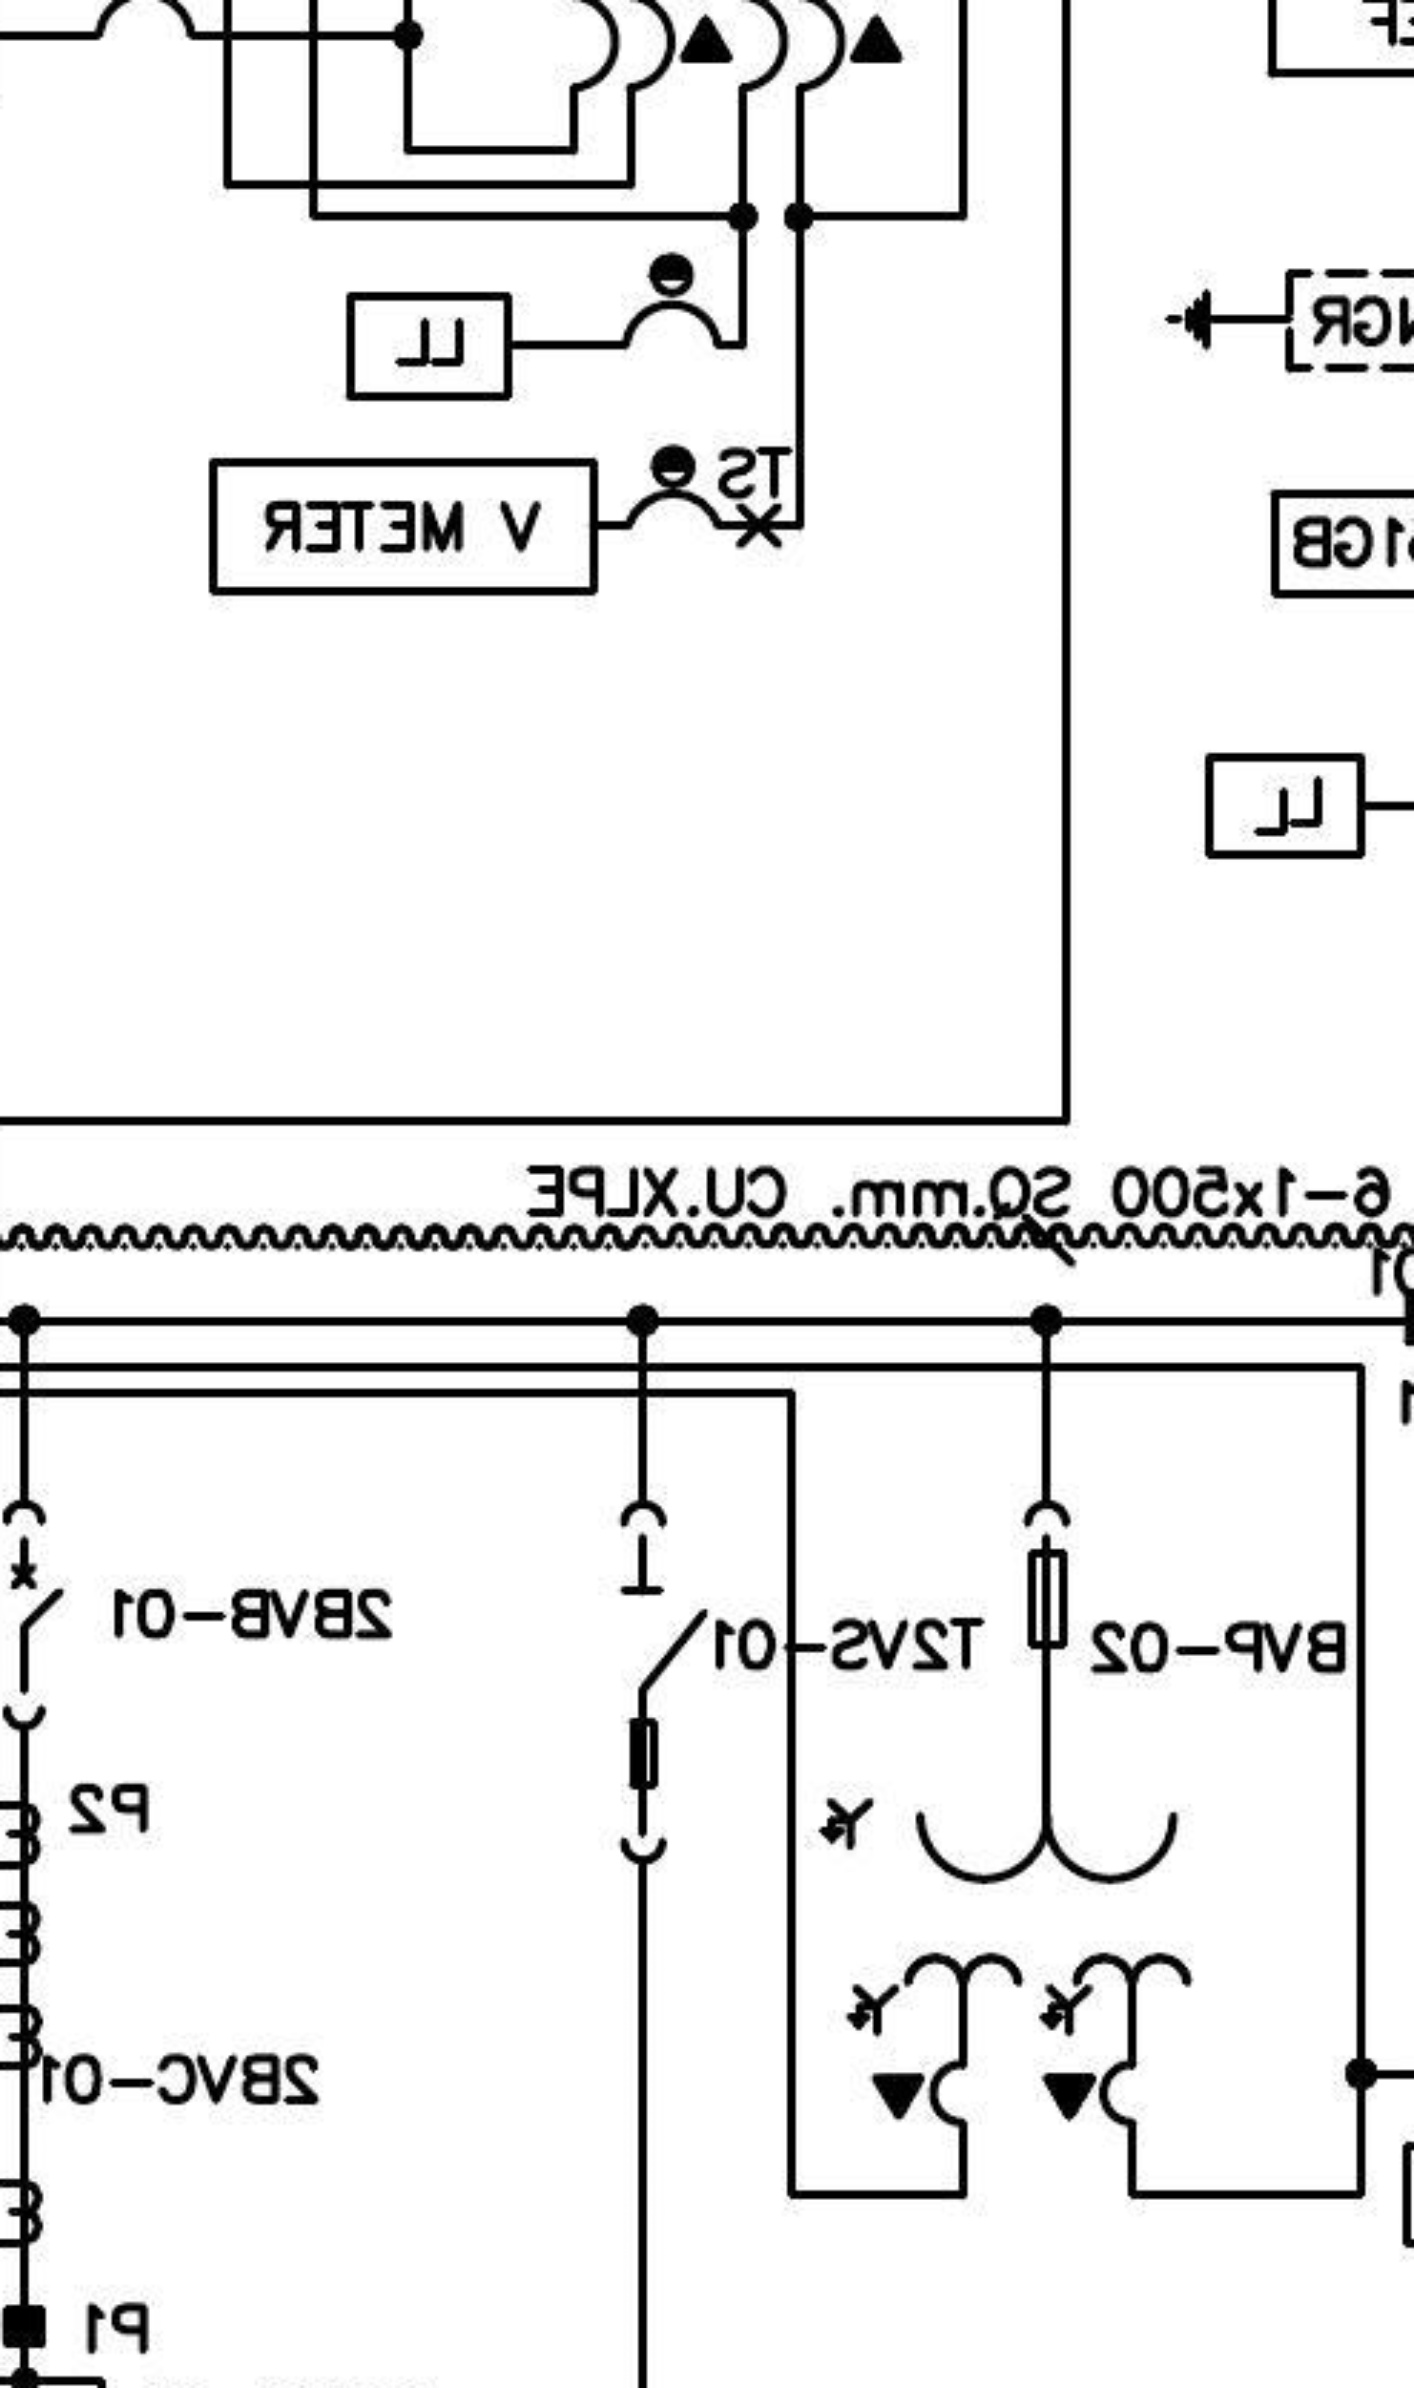22_breaker: (0, 1498, 66, 1732)
22_ds: (618, 1499, 709, 1866)
22_vt_3p: (818, 1499, 1195, 2131)
LL: (343, 289, 515, 406), (1204, 752, 1369, 860)
v_m_digital: (207, 456, 603, 599)
